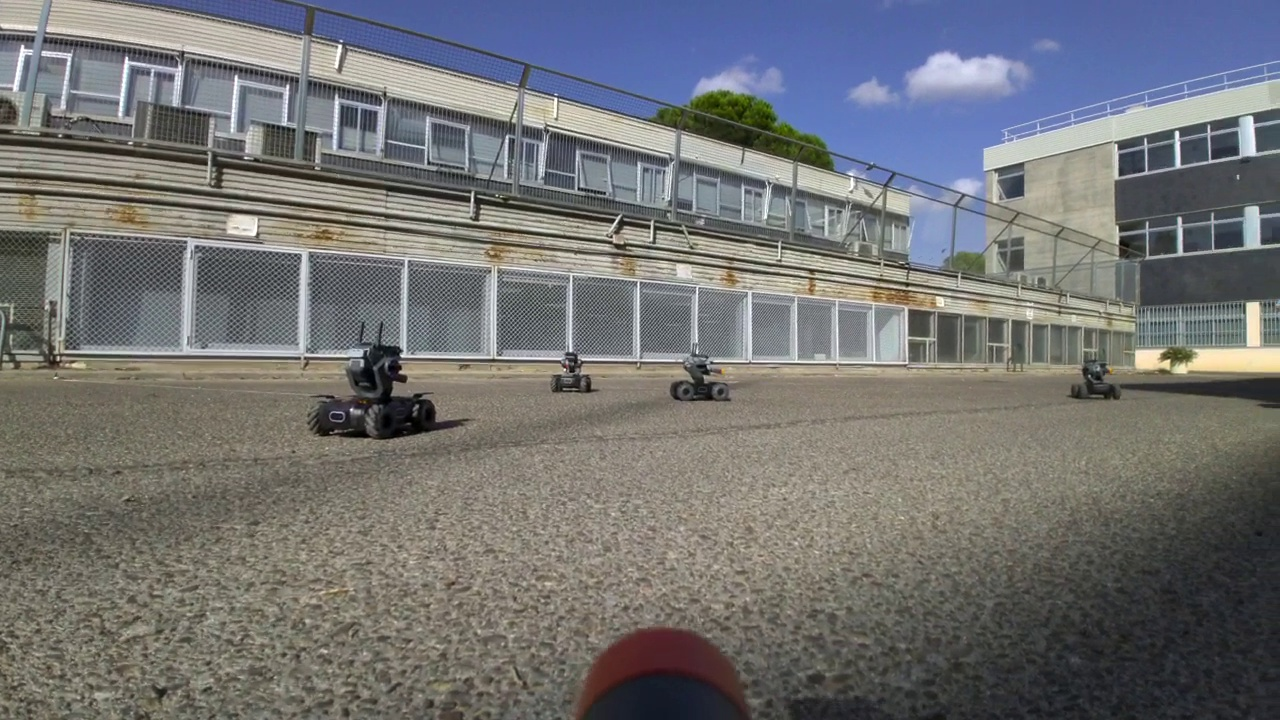robot: (306, 317, 435, 434), (668, 342, 733, 404), (1071, 356, 1125, 402), (551, 346, 595, 397)
